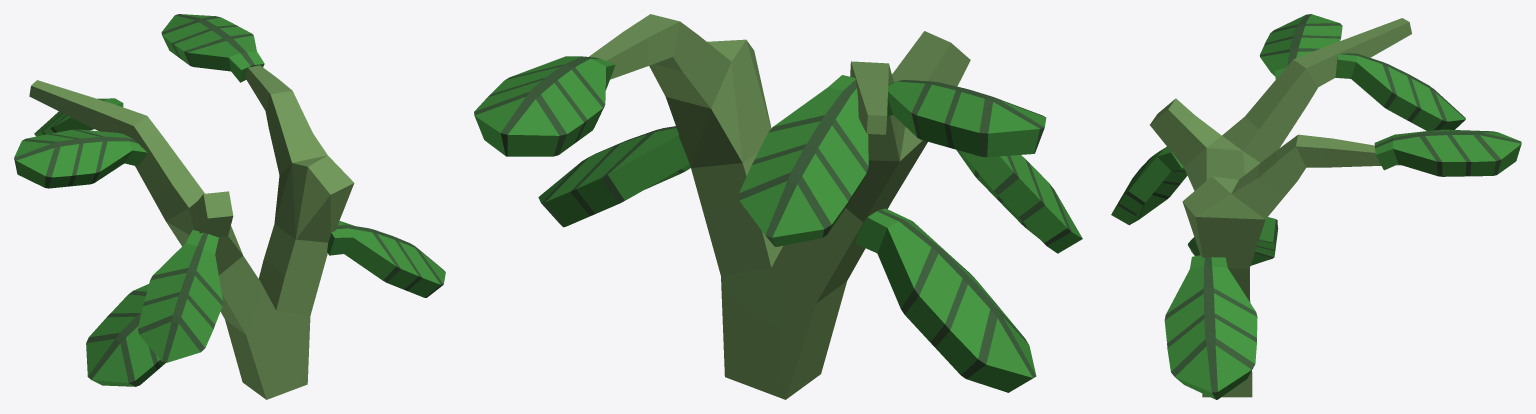
File: Pepper plant S2.fbx
3 renders of one model, left to right at view 1: azimuth 30°, elevation 25°; view 2: azimuth 150°, elevation 25°; view 3: azimuth 270°, elevation 25°, orthographic. The views are drawn at different scales.
Visible parts, largest first — view 1: Pepper plant; view 2: Pepper plant; view 3: Pepper plant.
Part boxes in pixels (x1,y1,x2,y2): Pepper plant: (14,14,445,399); Pepper plant: (474,14,1082,399); Pepper plant: (1111,14,1521,399).
Size of the model in its own units: 108 by 74.97 by 95.1.
